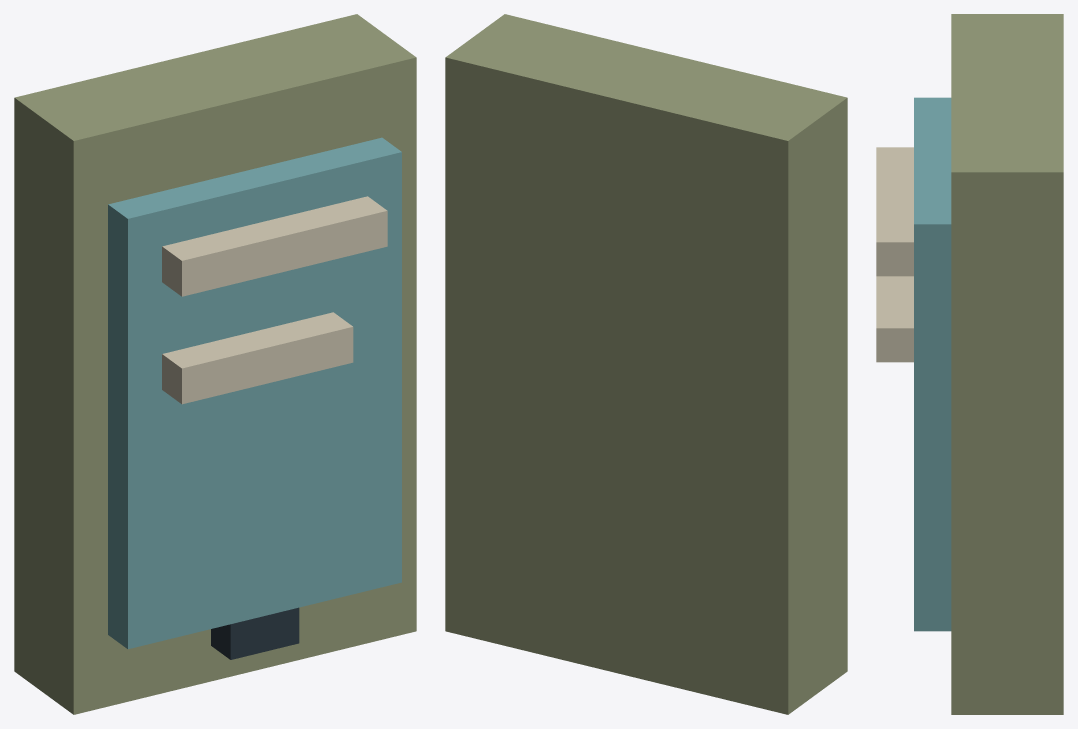
Rendered from property-19.glb.
The picture shows the model from 3 angles, left to right: view 1: azimuth 30°, elevation 25°; view 2: azimuth 150°, elevation 25°; view 3: azimuth 270°, elevation 25°; orthographic projection. The views are drawn at different scales.
Parts seen in each view (by area): view 1: Viewing tablet; view 2: Viewing tablet; view 3: Viewing tablet.
Part boxes in pixels (box(x1,y1,x2,y2)): Viewing tablet: box(14, 14, 416, 714); Viewing tablet: box(445, 14, 847, 714); Viewing tablet: box(876, 14, 1063, 714).
Bounding box in the file's own units: 0.8 × 1.28 × 0.4.
